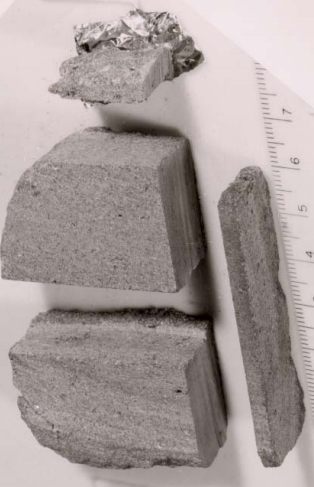Basalt: (19, 136, 191, 332), (36, 329, 231, 464), (224, 162, 302, 472), (48, 29, 229, 118)
